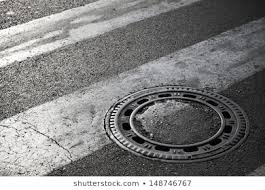Manhole-Closed: (101, 81, 253, 167)
